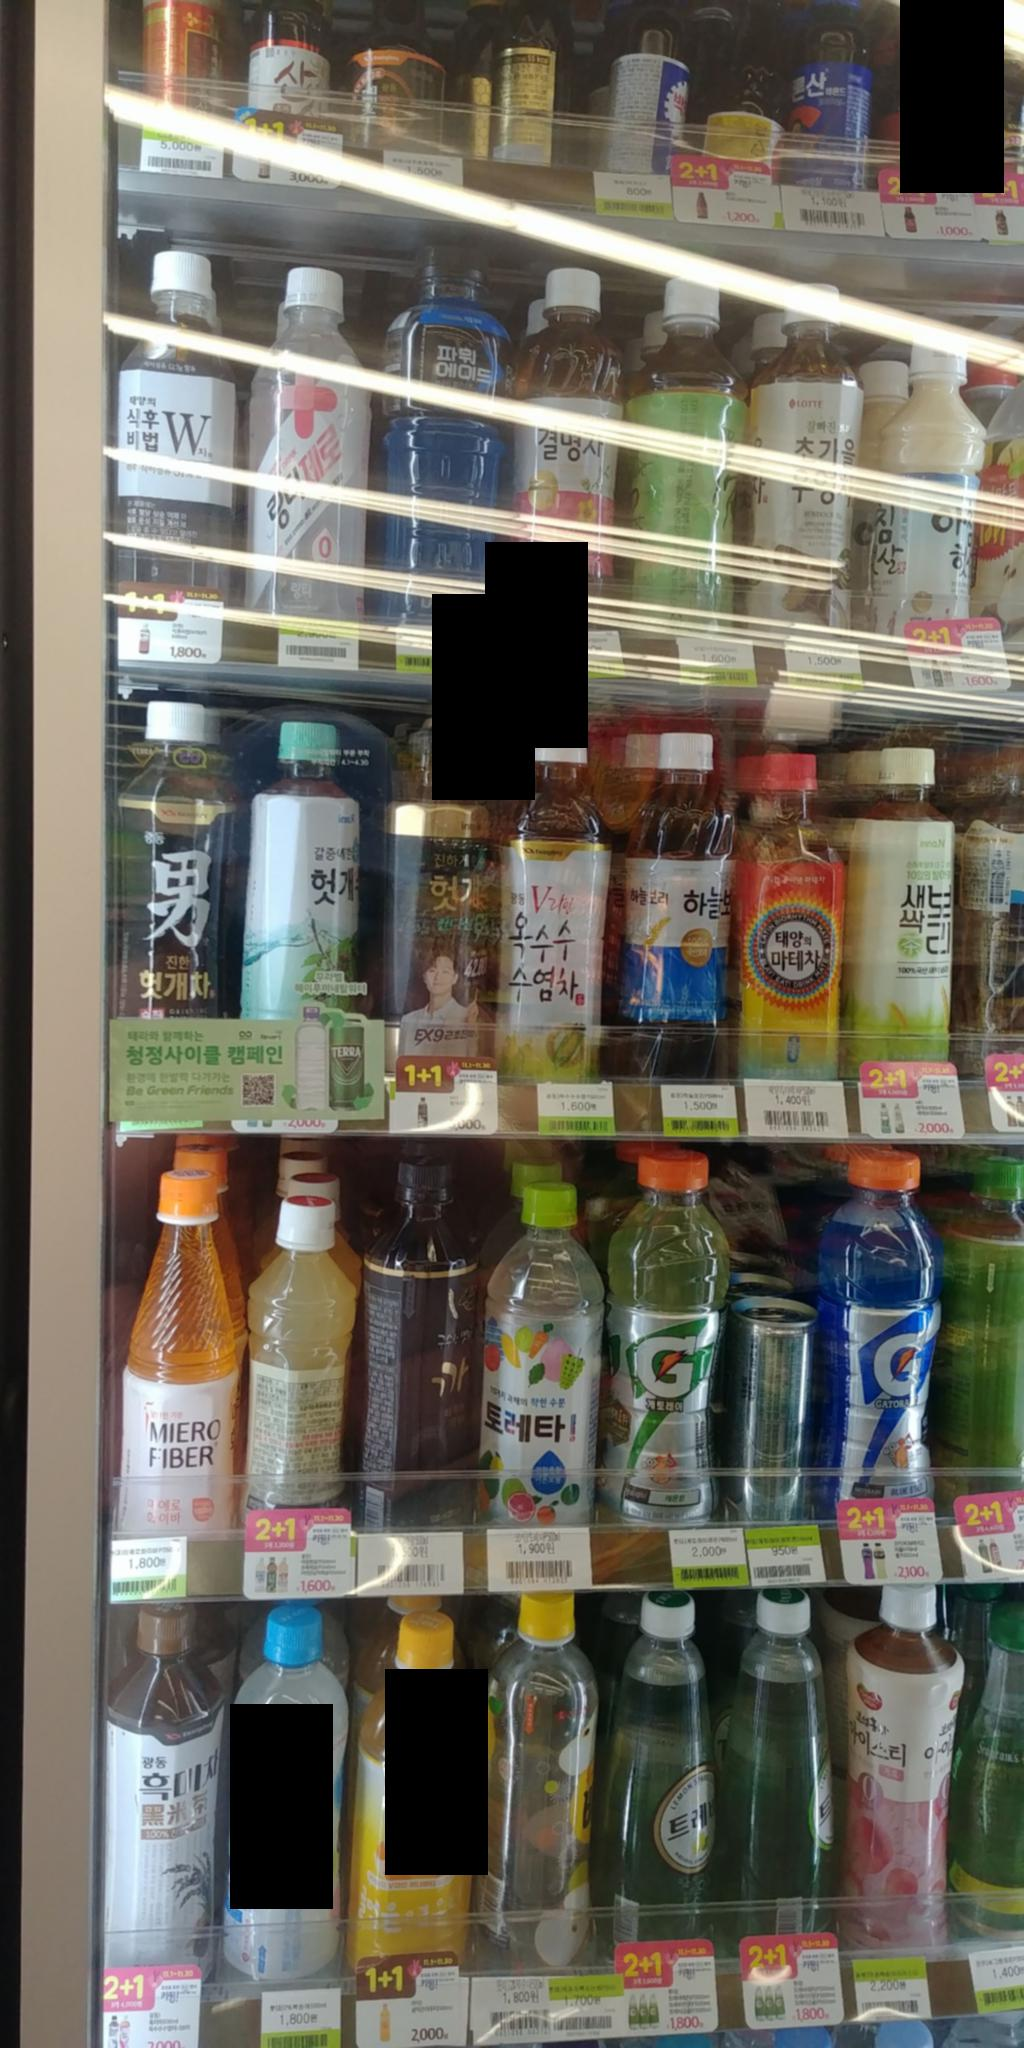gatorade_lemon: (594, 1132, 735, 1540)
haneulbori: (609, 711, 750, 1095)
heotgaecha: (97, 696, 256, 1038)
oksususuyeomcha: (488, 695, 615, 1097)
powerade_mountainblast: (368, 222, 522, 635)
toreta: (457, 1157, 615, 1543)
